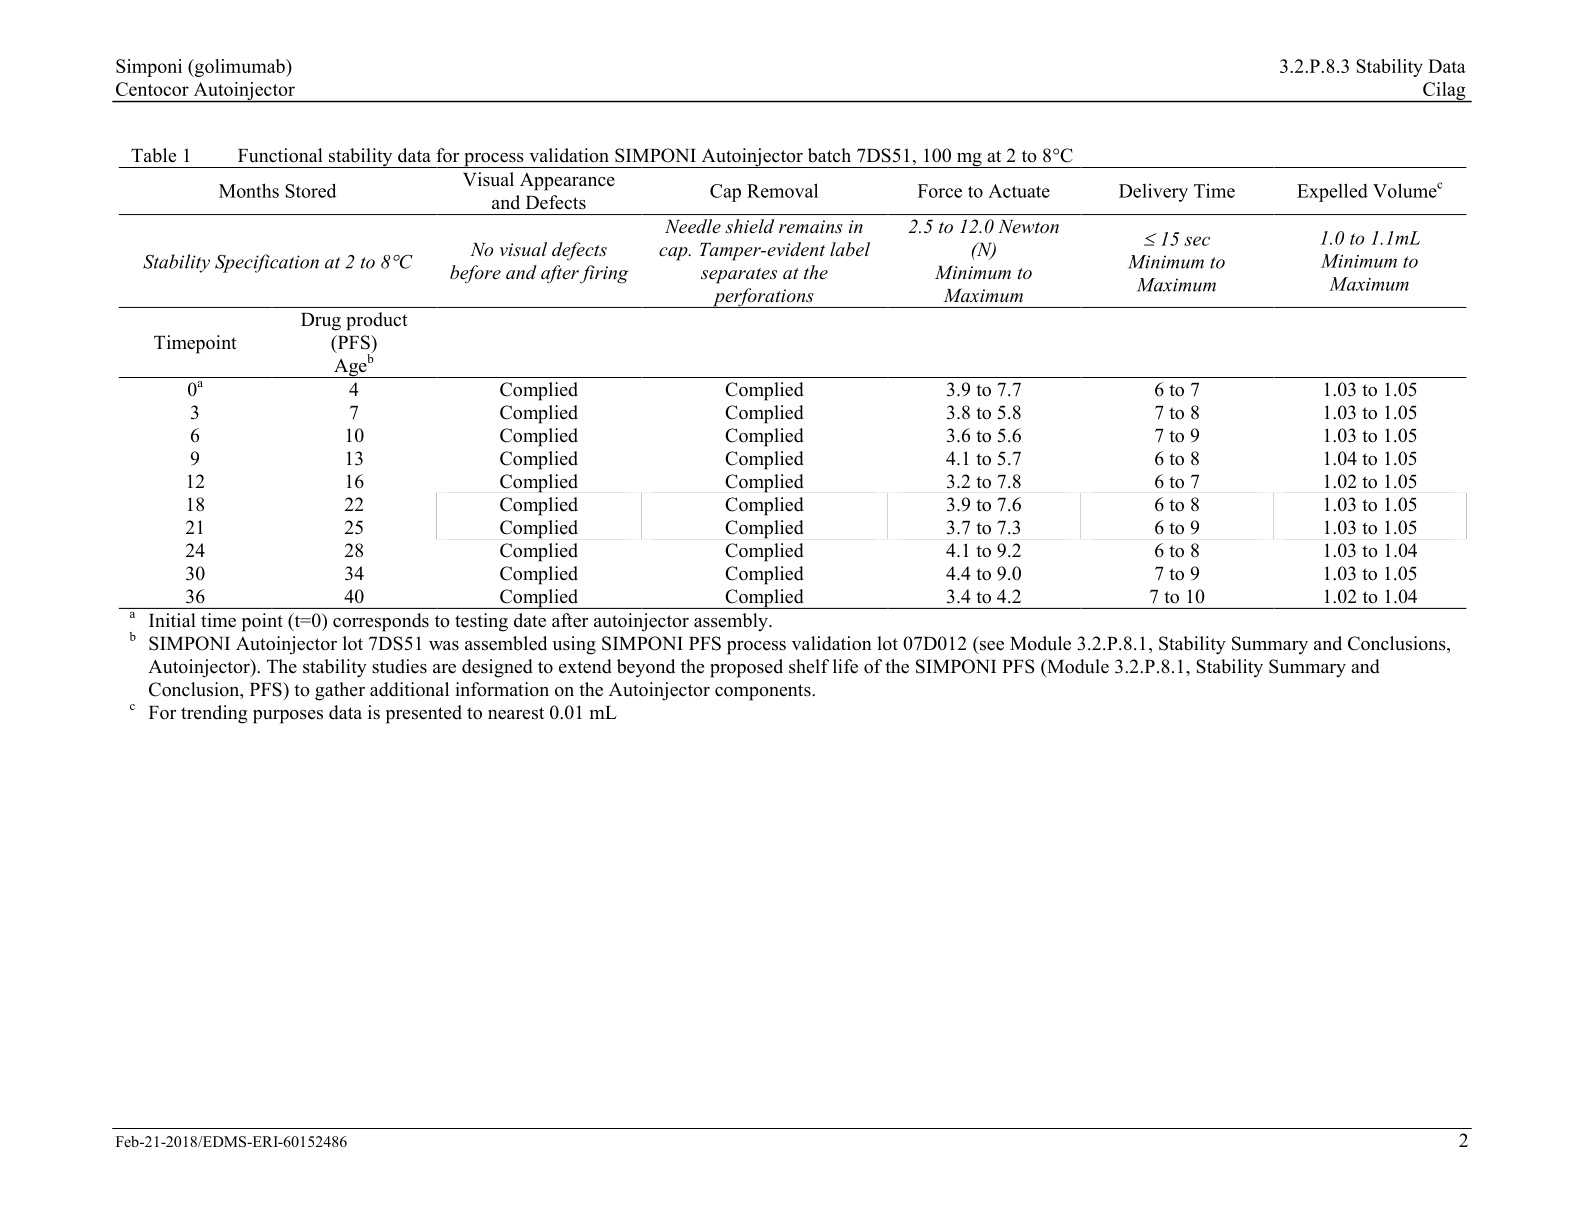partial_lined_merged_cells: (120, 168, 1468, 609)
